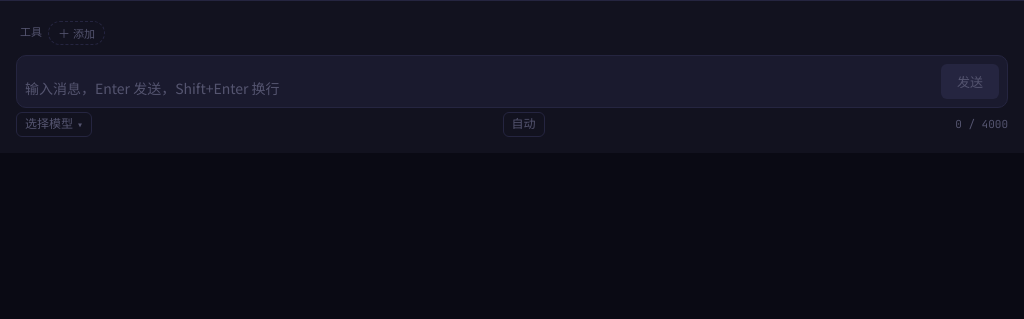
Scenario: MessageInput /skill 技能列表选择 › 点击技能补全为 /skill 技能id 供继续输入
The width and height of the screenshot is (1024, 319).
Step 1. Type "/skill" into the text box with placeholder "输入消息，Enter 发送，Shift+Enter 换行" → (479, 88), box [25,77,933,99]
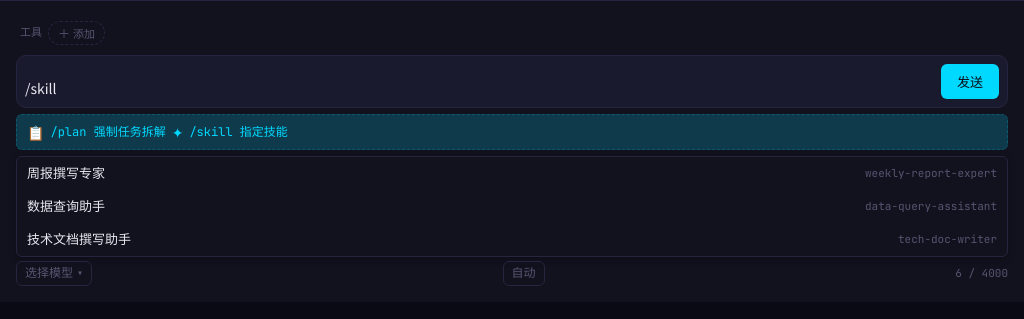
Note: 选择项用 @mousedown.prevent（保持输入框聚焦），测试触发 mousedown
Step 2. Press the mouse on the element with class "skill-suggest-item" showing "数据查询助手 data-query-assistant" → (66, 206), box [27,196,997,215]
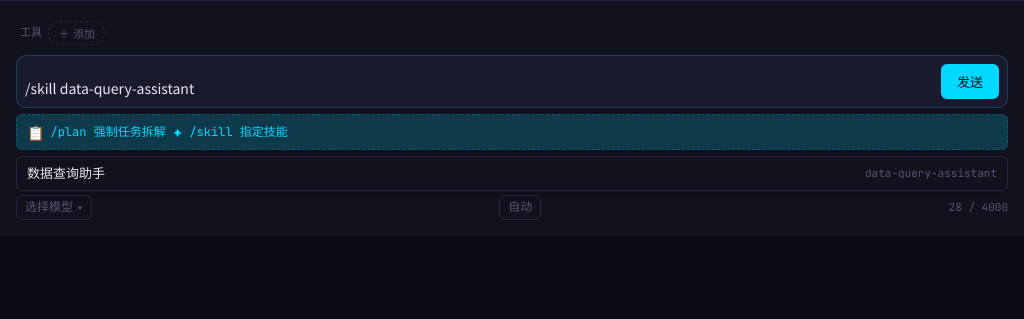
Check: the text box holds "/skill data-query-assistant ", box [25,77,933,99]
